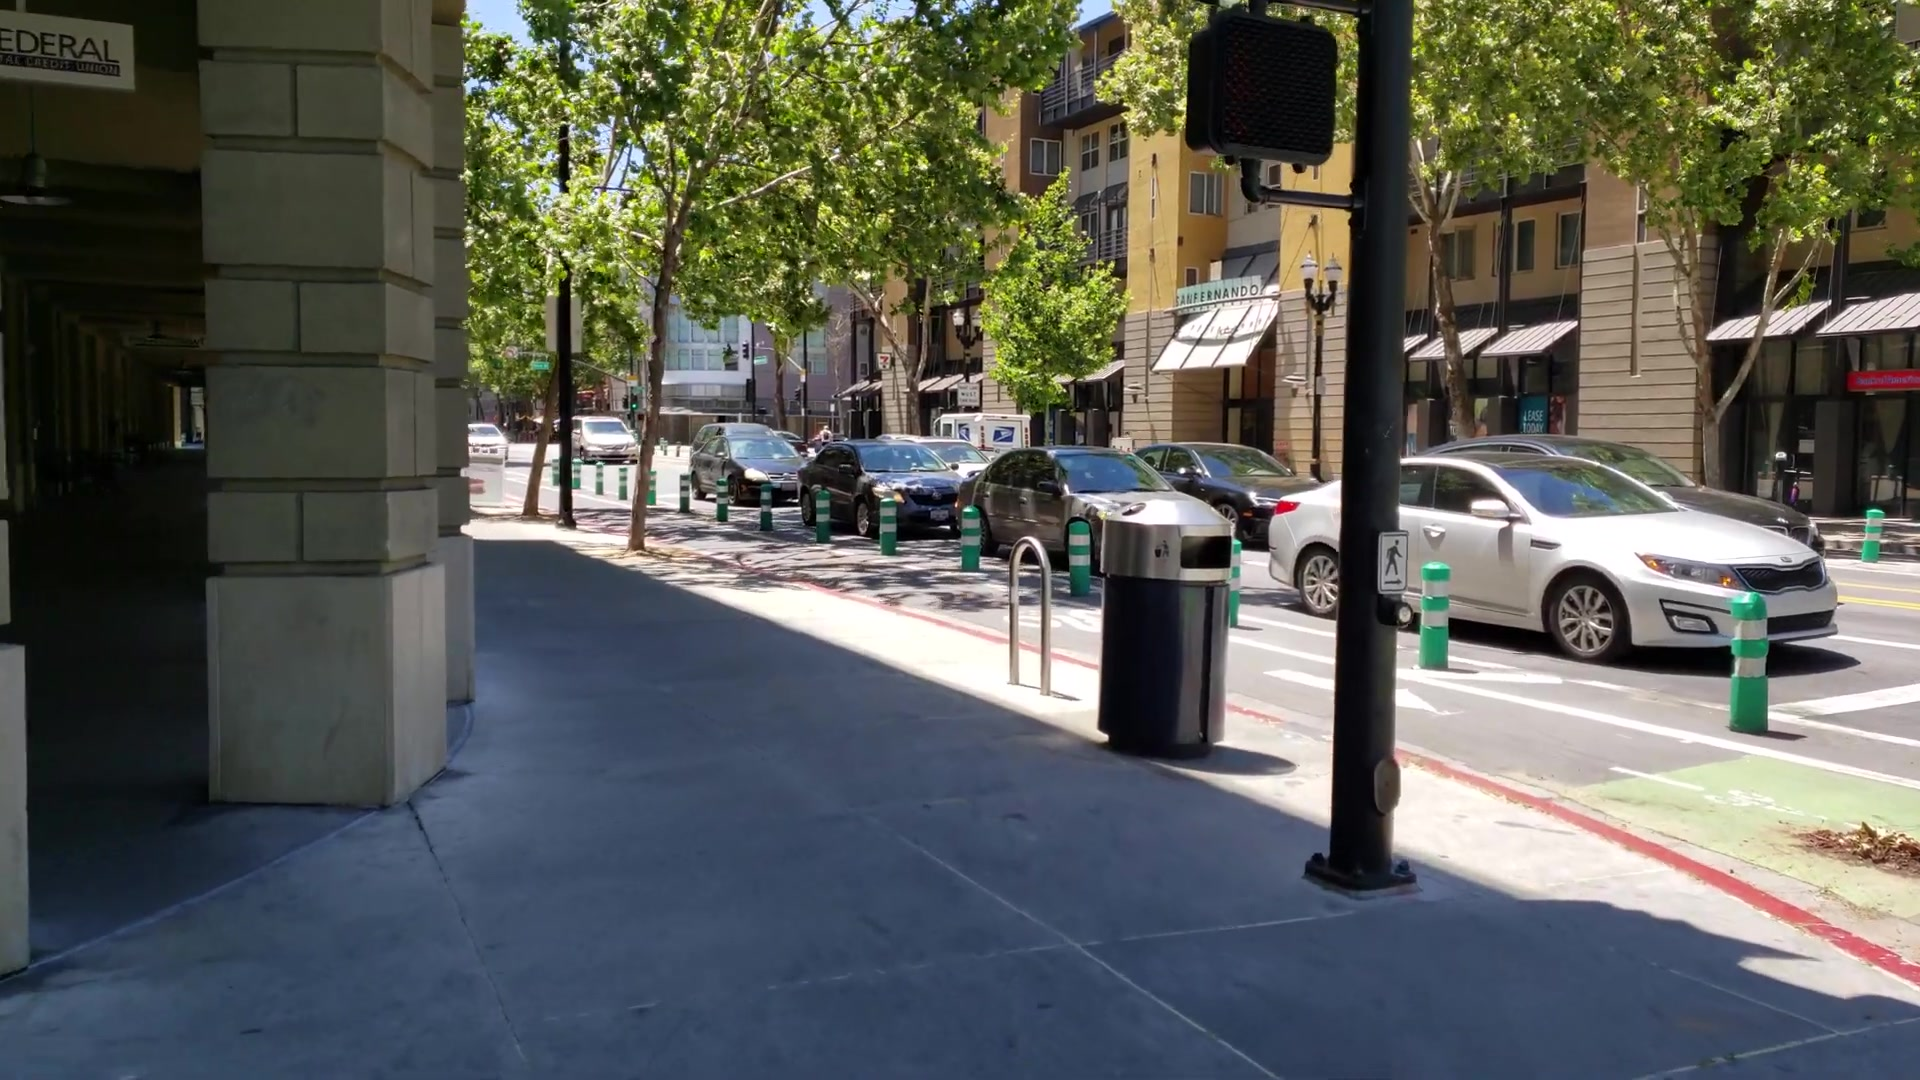vehicle: (1276, 458, 1832, 655), (799, 442, 957, 534), (688, 434, 798, 502)
